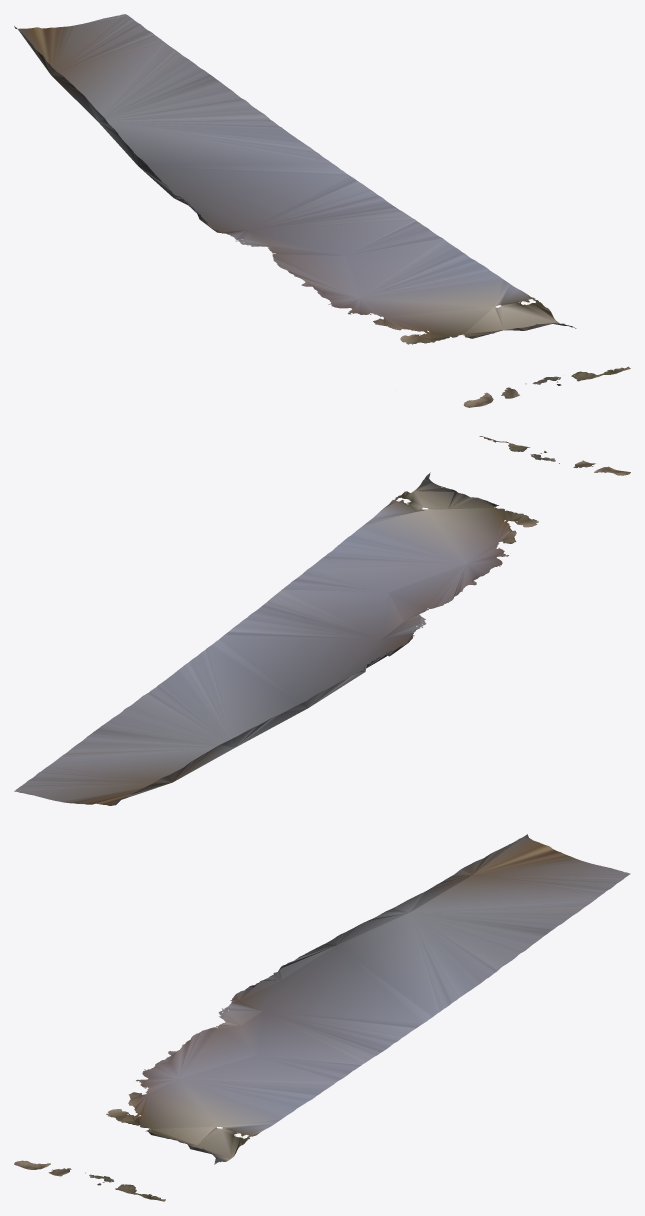
Rendered from coarse.glb.
3 renders of one model, top to bottom at view 1: azimuth 30°, elevation 25°; view 2: azimuth 150°, elevation 25°; view 3: azimuth 330°, elevation 25°, orthographic. The views are drawn at different scales.
Bounding box in the file's own units: 0.8174 × 0.0624 × 3.6.
